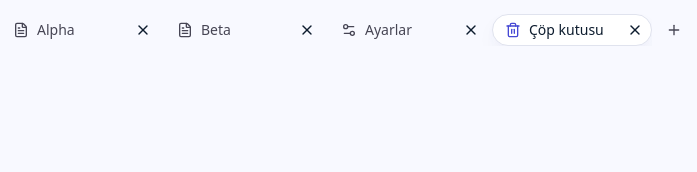
Test case: TabBar › renders special titles without the note reveal action
Right-click the tab "Ayarlar" at (408, 30), box [328, 14, 488, 46]
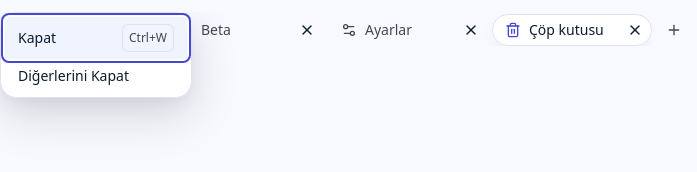
Press Escape
Click the button named "Ayarlar sekmesini kapat" at (471, 30), box [459, 18, 483, 42]
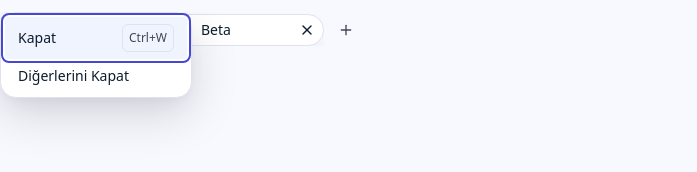
Expected: the tab "Ayarlar" is gone
Expected: the tab "Çöp kutusu" is gone
